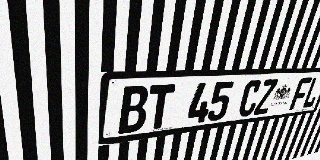4: (186, 82, 214, 125)
5: (206, 81, 234, 122)
B: (118, 85, 149, 134)
C: (237, 80, 263, 117)
F: (289, 77, 312, 110)
L: (301, 77, 320, 108)
T: (145, 84, 175, 130)
Z: (253, 79, 278, 115)
